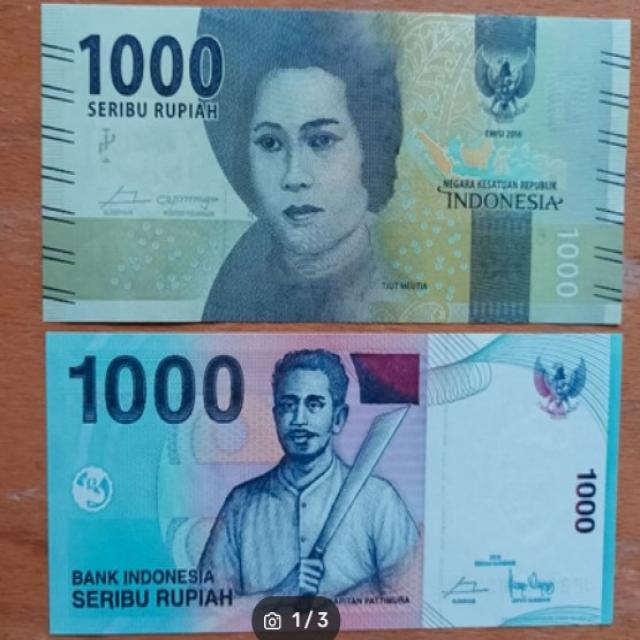1000IndonesianRupiah: (45, 328, 608, 622)
